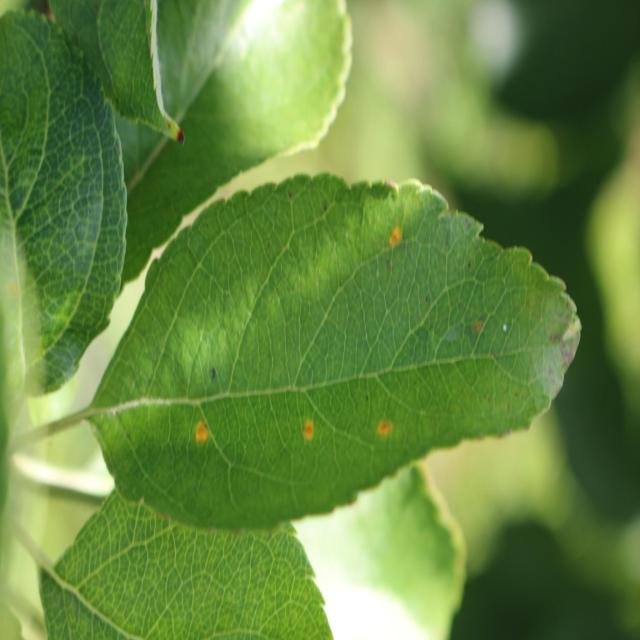Rust: (294, 415, 322, 445), (380, 219, 406, 251), (465, 308, 486, 346), (365, 419, 398, 440), (190, 419, 211, 451)
